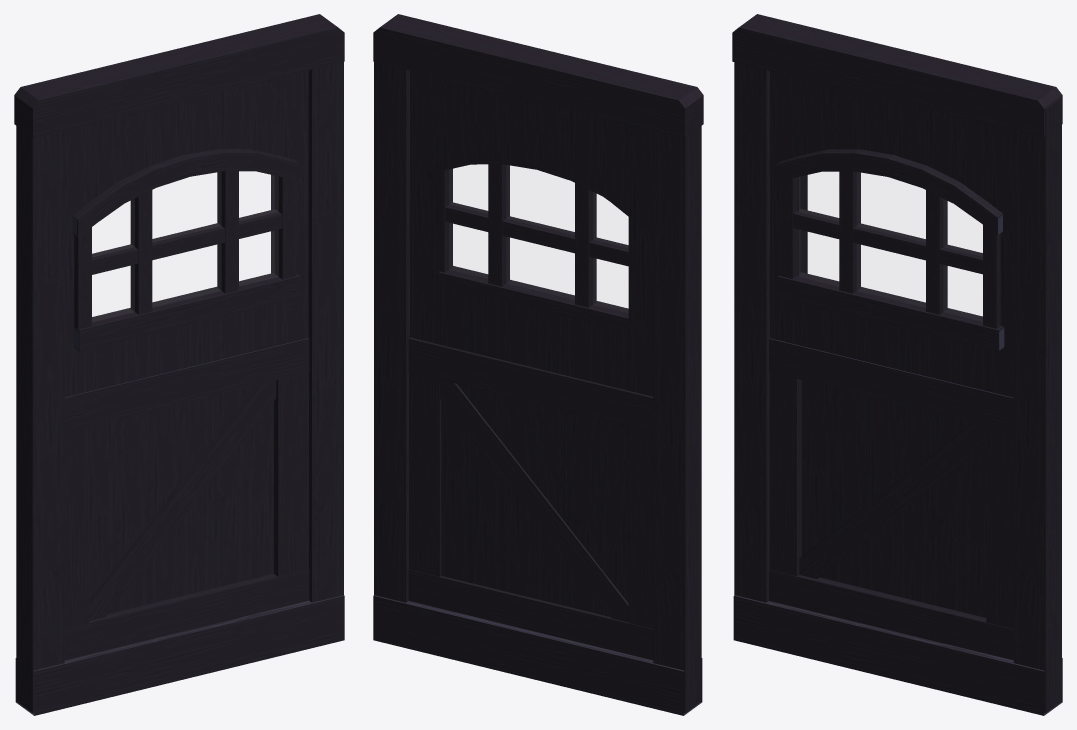
The picture shows the model from 3 angles, left to right: view 1: azimuth 30°, elevation 25°; view 2: azimuth 150°, elevation 25°; view 3: azimuth 330°, elevation 25°; orthographic projection.
Parts seen in each view (by area): view 1: Door_1_Flat; view 2: Door_1_Flat; view 3: Door_1_Flat.
Boxes of the visible parts, x1,y1,x2,y2 form: Door_1_Flat: (14,14,344,715); Door_1_Flat: (373,14,703,715); Door_1_Flat: (732,14,1062,715).
Bounding box in the file's own units: 1.12 × 2.1 × 0.1207.
Materials: 2 (1 with a texture image).
